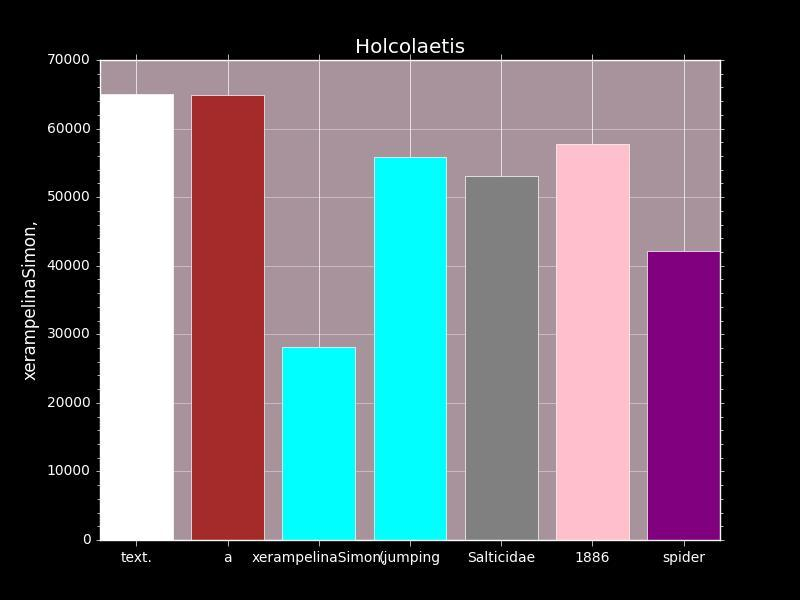axis: (22, 54, 90, 546)
rectangle: (100, 94, 173, 540), (191, 95, 264, 540), (556, 144, 629, 540), (373, 157, 446, 540), (464, 176, 538, 540), (647, 251, 720, 540), (282, 347, 356, 540)
